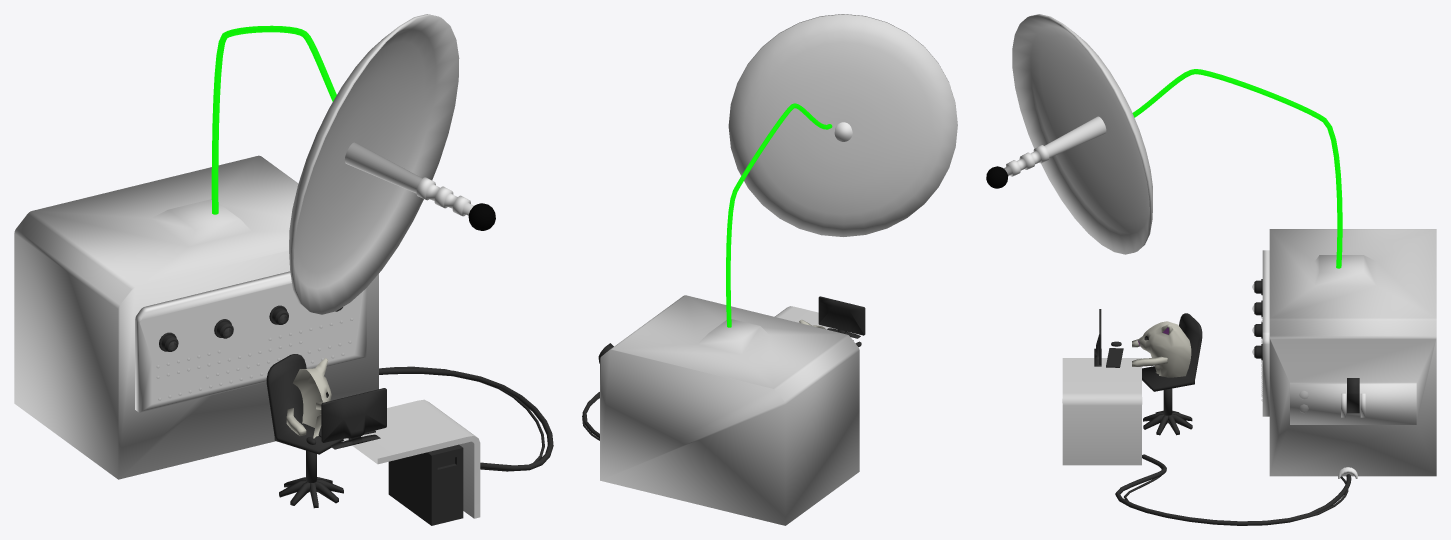
The model's file is Magic_0.glb.
The picture shows the model from 3 angles, left to right: view 1: azimuth 30°, elevation 25°; view 2: azimuth 150°, elevation 25°; view 3: azimuth 270°, elevation 25°; orthographic projection. The views are drawn at different scales.
Visible parts, largest first — view 1: Server, Cube, Plane, Cube.001, Cube.004, Cube.002, BézierCurve.001, BézierCurve, Plane.004, Server.002; view 2: Server, Cube, Cube.002, BézierCurve.001, Plane; view 3: Server, Cube, Plane, Cube.004, BézierCurve.001, Plane.004, BézierCurve, Server.002.
Part boxes in pixels (x1,y1,x2,y2): Server: (14,155,378,479); Cube: (289,14,495,314); Plane: (343,399,480,518); Cube.001: (388,444,463,525); Cube.004: (266,354,344,508); Cube.002: (321,388,386,449); BézierCurve.001: (211,25,336,214); BézierCurve: (379,366,553,471); Plane.004: (293,358,331,438); Server.002: (159,305,342,351); Server: (600,295,859,525); Cube: (728,14,957,236); Cube.002: (818,296,865,338); BézierCurve.001: (726,103,832,327); Plane: (774,306,837,329); Server: (1262,229,1436,478); Cube: (986,14,1152,254); Plane: (1062,358,1142,465); Cube.004: (1142,313,1202,435); BézierCurve.001: (1132,69,1342,268); Plane.004: (1137,321,1191,377); BézierCurve: (1115,454,1351,525); Server.002: (1252,279,1262,360).
Size of what is drawn, in the model's own units: 4.3 by 5.45 by 5.4.
